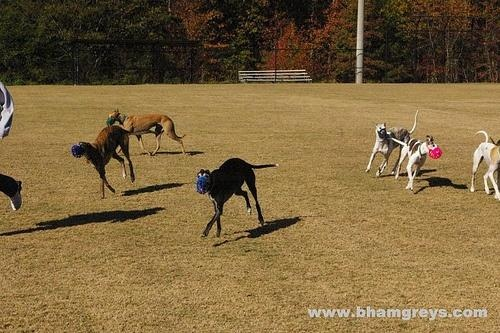dog: (195, 159, 278, 241), (72, 125, 138, 200), (366, 110, 420, 185), (107, 110, 187, 158), (396, 136, 440, 192), (470, 130, 500, 202)
